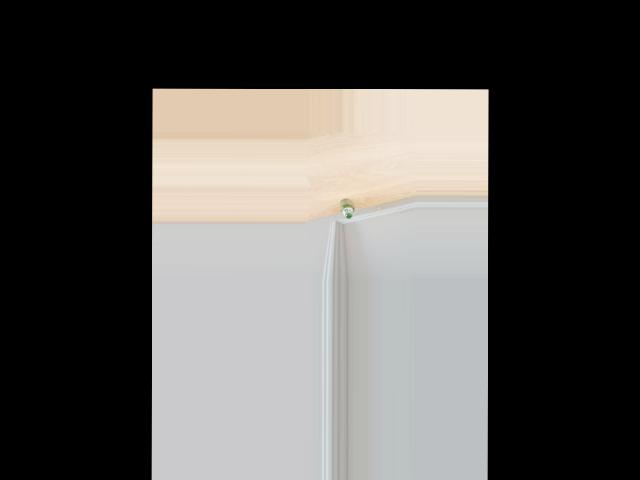beer: (340, 198, 354, 218)
